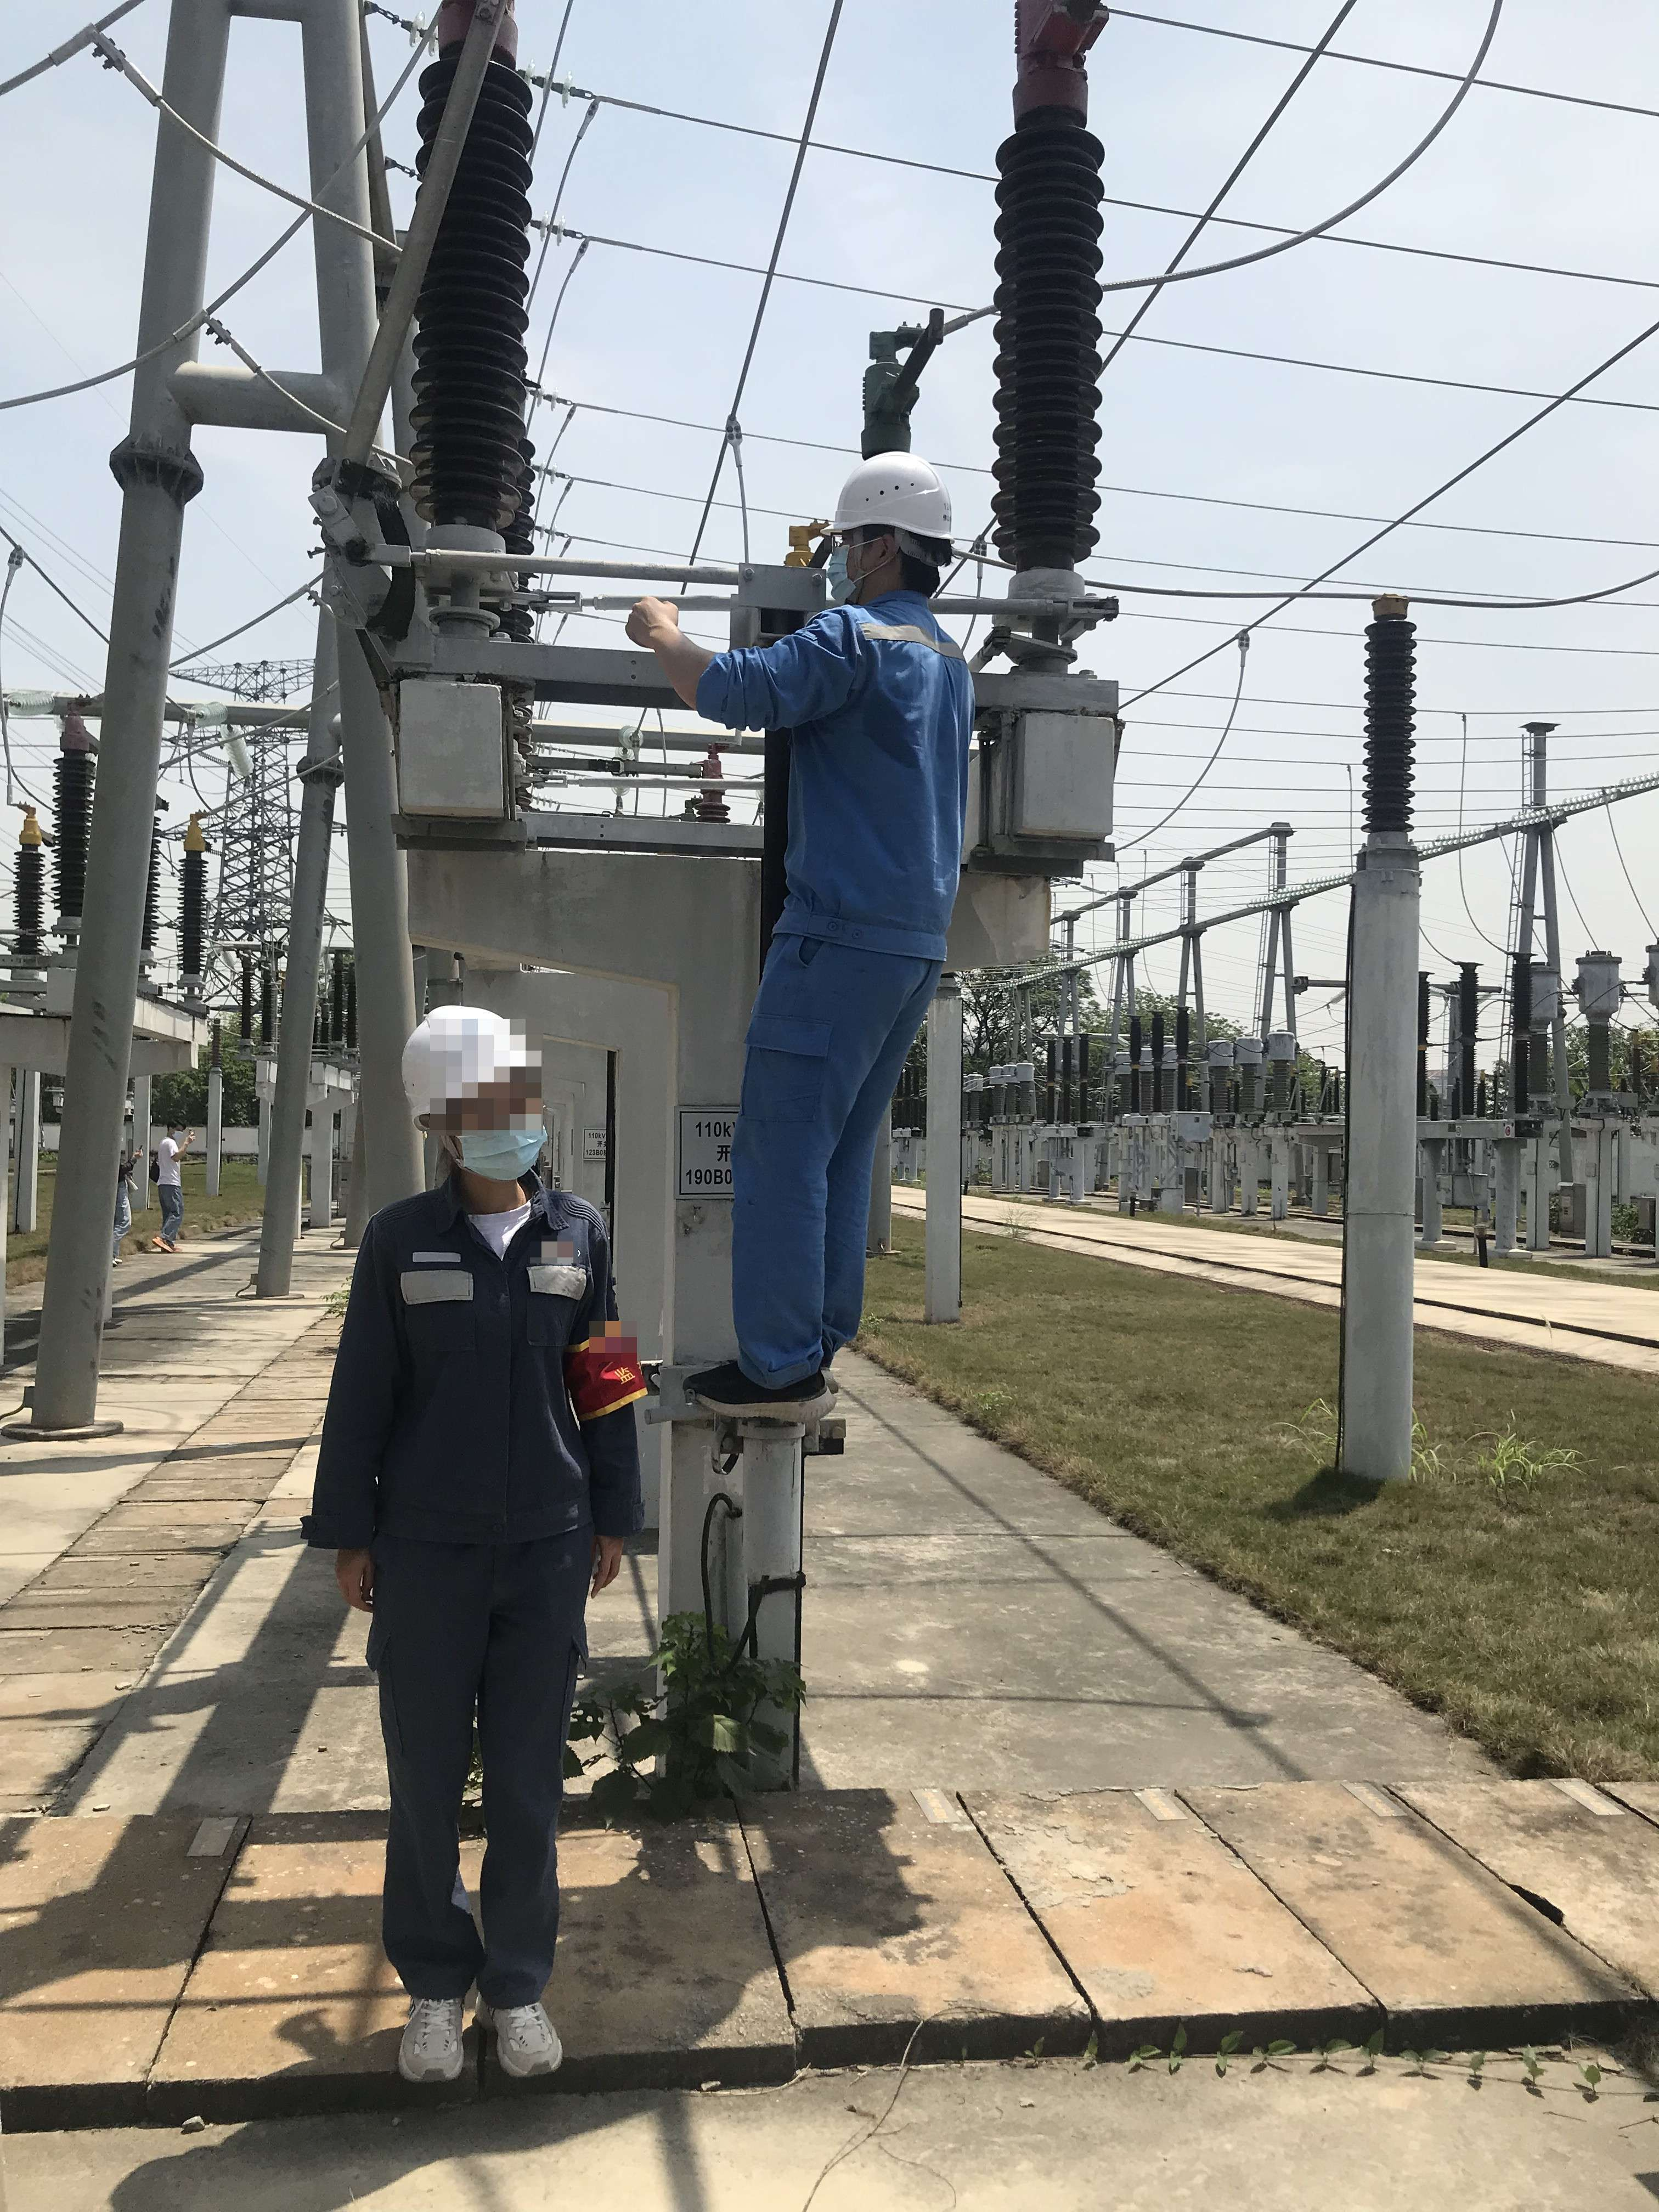downsuit: (727, 975, 948, 1371), (387, 1604, 598, 1994)
upsuit: (308, 1163, 645, 1585), (695, 583, 992, 953)
wrongtop: (641, 620, 779, 737)
